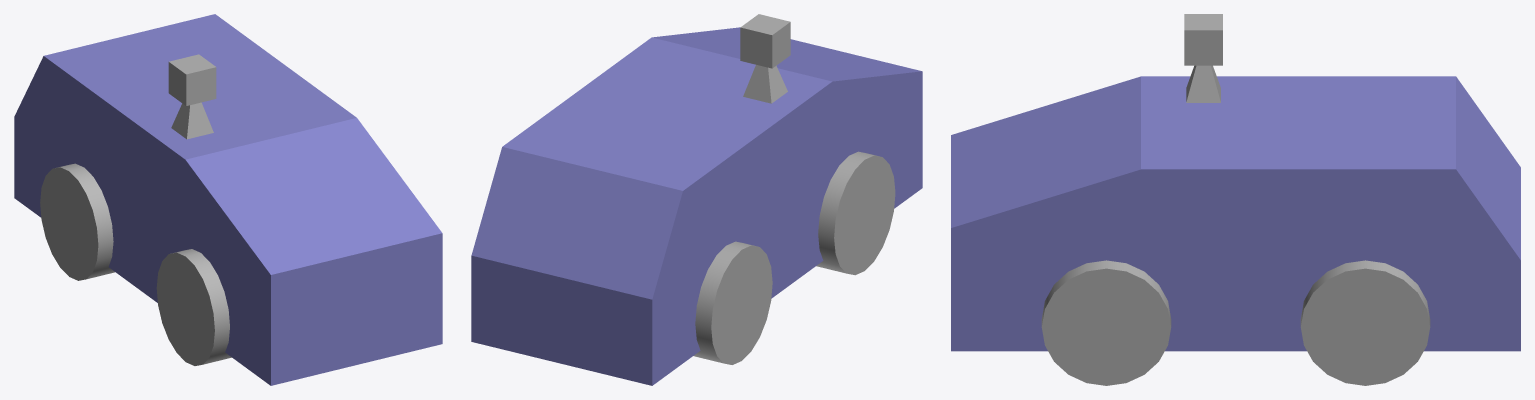
Rendered from Car01.fbx.
The picture shows the model from 3 angles, left to right: view 1: azimuth 30°, elevation 25°; view 2: azimuth 150°, elevation 25°; view 3: azimuth 270°, elevation 25°; orthographic projection. The views are drawn at different scales.
Visible parts, largest first — view 1: pCone3; view 2: pCone3; view 3: pCone3.
Part boxes in pixels (left/top/right/bottom): pCone3: left=14, top=14, right=442, bottom=385; pCone3: left=471, top=14, right=922, bottom=385; pCone3: left=951, top=14, right=1520, bottom=385.
Size of the model in its own units: 2 by 2.4 by 4.4.
